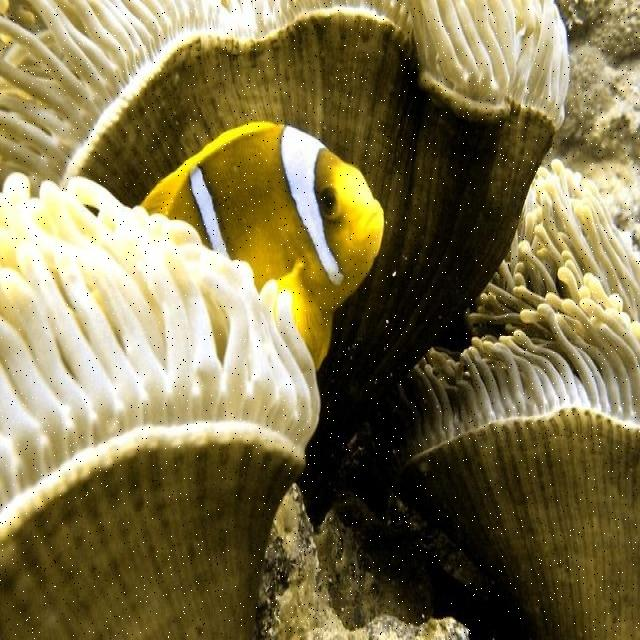fish: (140, 121, 383, 372)
reefs: (1, 0, 569, 379), (1, 171, 321, 639), (399, 159, 639, 639)
